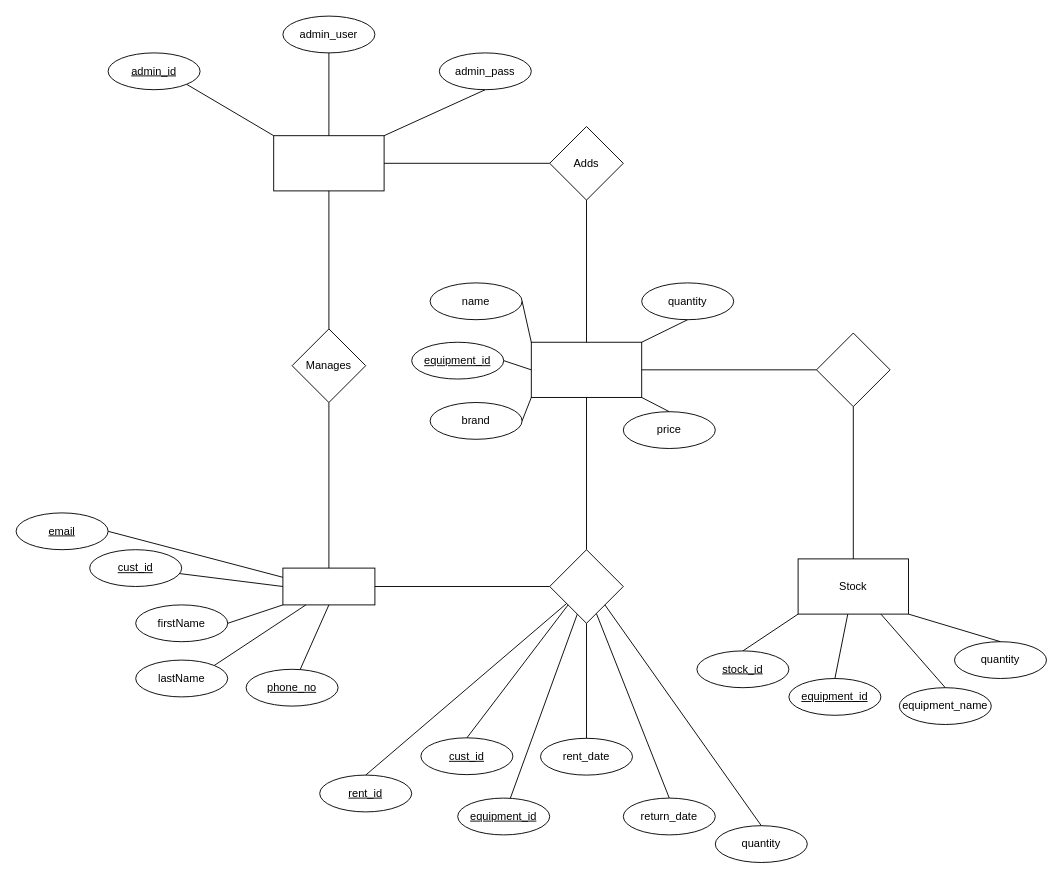
This 1063x879 diagram has some shape labels left out. The centre of each missing label's shape, as x and y in pixels:
Admin: (328,163)
Customer: (328,586)
Equipment: (586,369)
Rents: (586,586)
Updates: (853,369)
